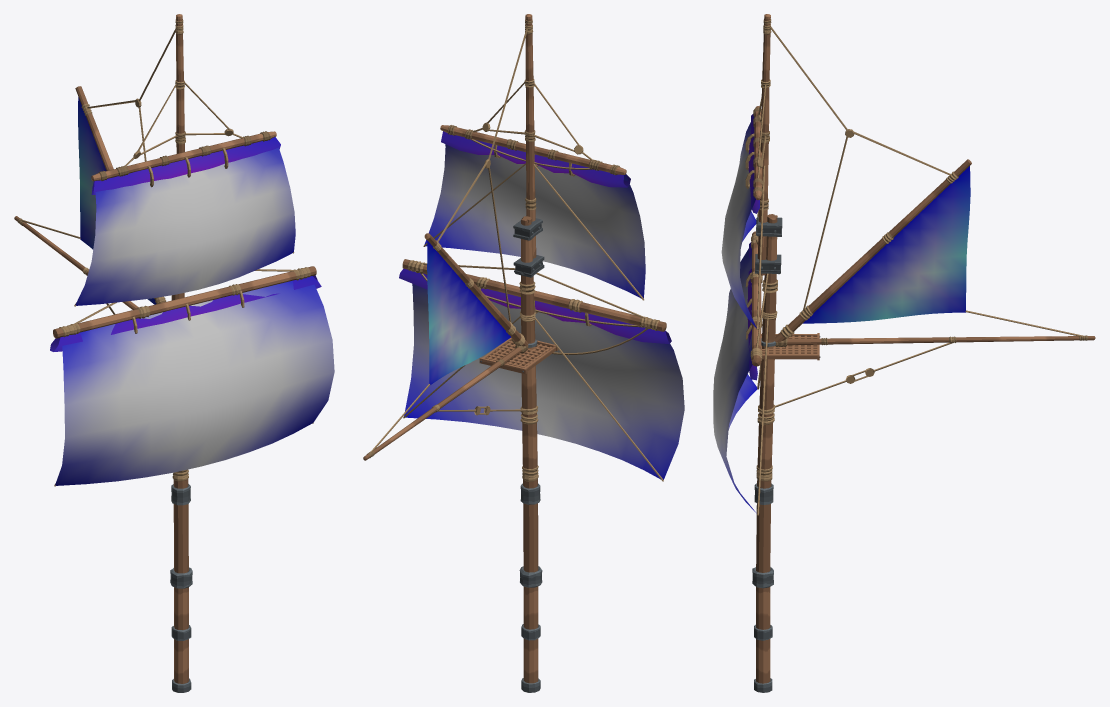
File: SM_Veh_Ship_L_Mast_Back_01.fbx
3 views of the same model, side by side, from view 1: azimuth 30°, elevation 25°; view 2: azimuth 150°, elevation 25°; view 3: azimuth 270°, elevation 25° (orthographic).
Visible parts, largest first — view 1: SM_Veh_Ship_L_Mast_Back_01_Boom_01, SM_Veh_Ship_L_Mast_Back_01, SM_Veh_Ship_L_Mast_Back_01_Base_02; view 2: SM_Veh_Ship_L_Mast_Back_01_Boom_01, SM_Veh_Ship_L_Mast_Back_01, SM_Veh_Ship_L_Mast_Back_01_Base_02; view 3: SM_Veh_Ship_L_Mast_Back_01, SM_Veh_Ship_L_Mast_Back_01_Boom_01, SM_Veh_Ship_L_Mast_Back_01_Base_02.
Part boxes in pixels (bbox=[...]): SM_Veh_Ship_L_Mast_Back_01_Boom_01: bbox=[50, 137, 334, 486]; SM_Veh_Ship_L_Mast_Back_01: bbox=[14, 14, 316, 582]; SM_Veh_Ship_L_Mast_Back_01_Base_02: bbox=[170, 577, 192, 692]; SM_Veh_Ship_L_Mast_Back_01_Boom_01: bbox=[399, 131, 684, 481]; SM_Veh_Ship_L_Mast_Back_01: bbox=[363, 14, 666, 581]; SM_Veh_Ship_L_Mast_Back_01_Base_02: bbox=[520, 576, 542, 692]; SM_Veh_Ship_L_Mast_Back_01: bbox=[750, 14, 1095, 581]; SM_Veh_Ship_L_Mast_Back_01_Boom_01: bbox=[713, 114, 768, 515]; SM_Veh_Ship_L_Mast_Back_01_Base_02: bbox=[752, 578, 773, 692].
Bounding box in the file's own units: 1489 × 3556 × 1826.
